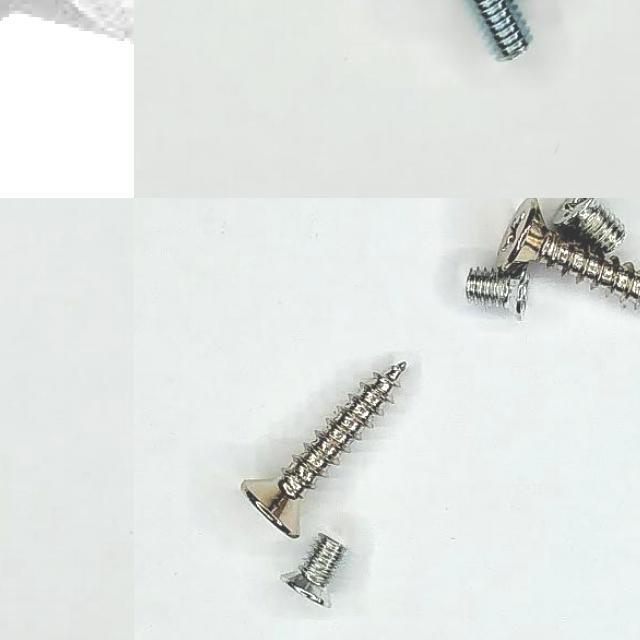Screw: (241, 362, 405, 539), (496, 198, 640, 302), (280, 534, 347, 609), (553, 198, 626, 256), (474, 0, 528, 60), (465, 266, 527, 318)
